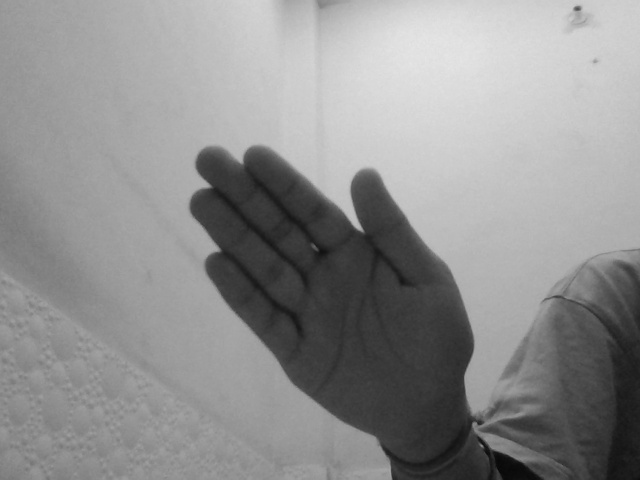Hello: (186, 143, 481, 450)
